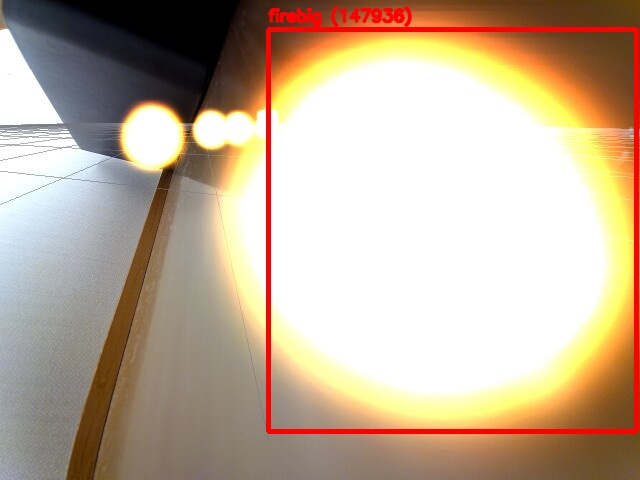firebig: (268, 29, 636, 431)
